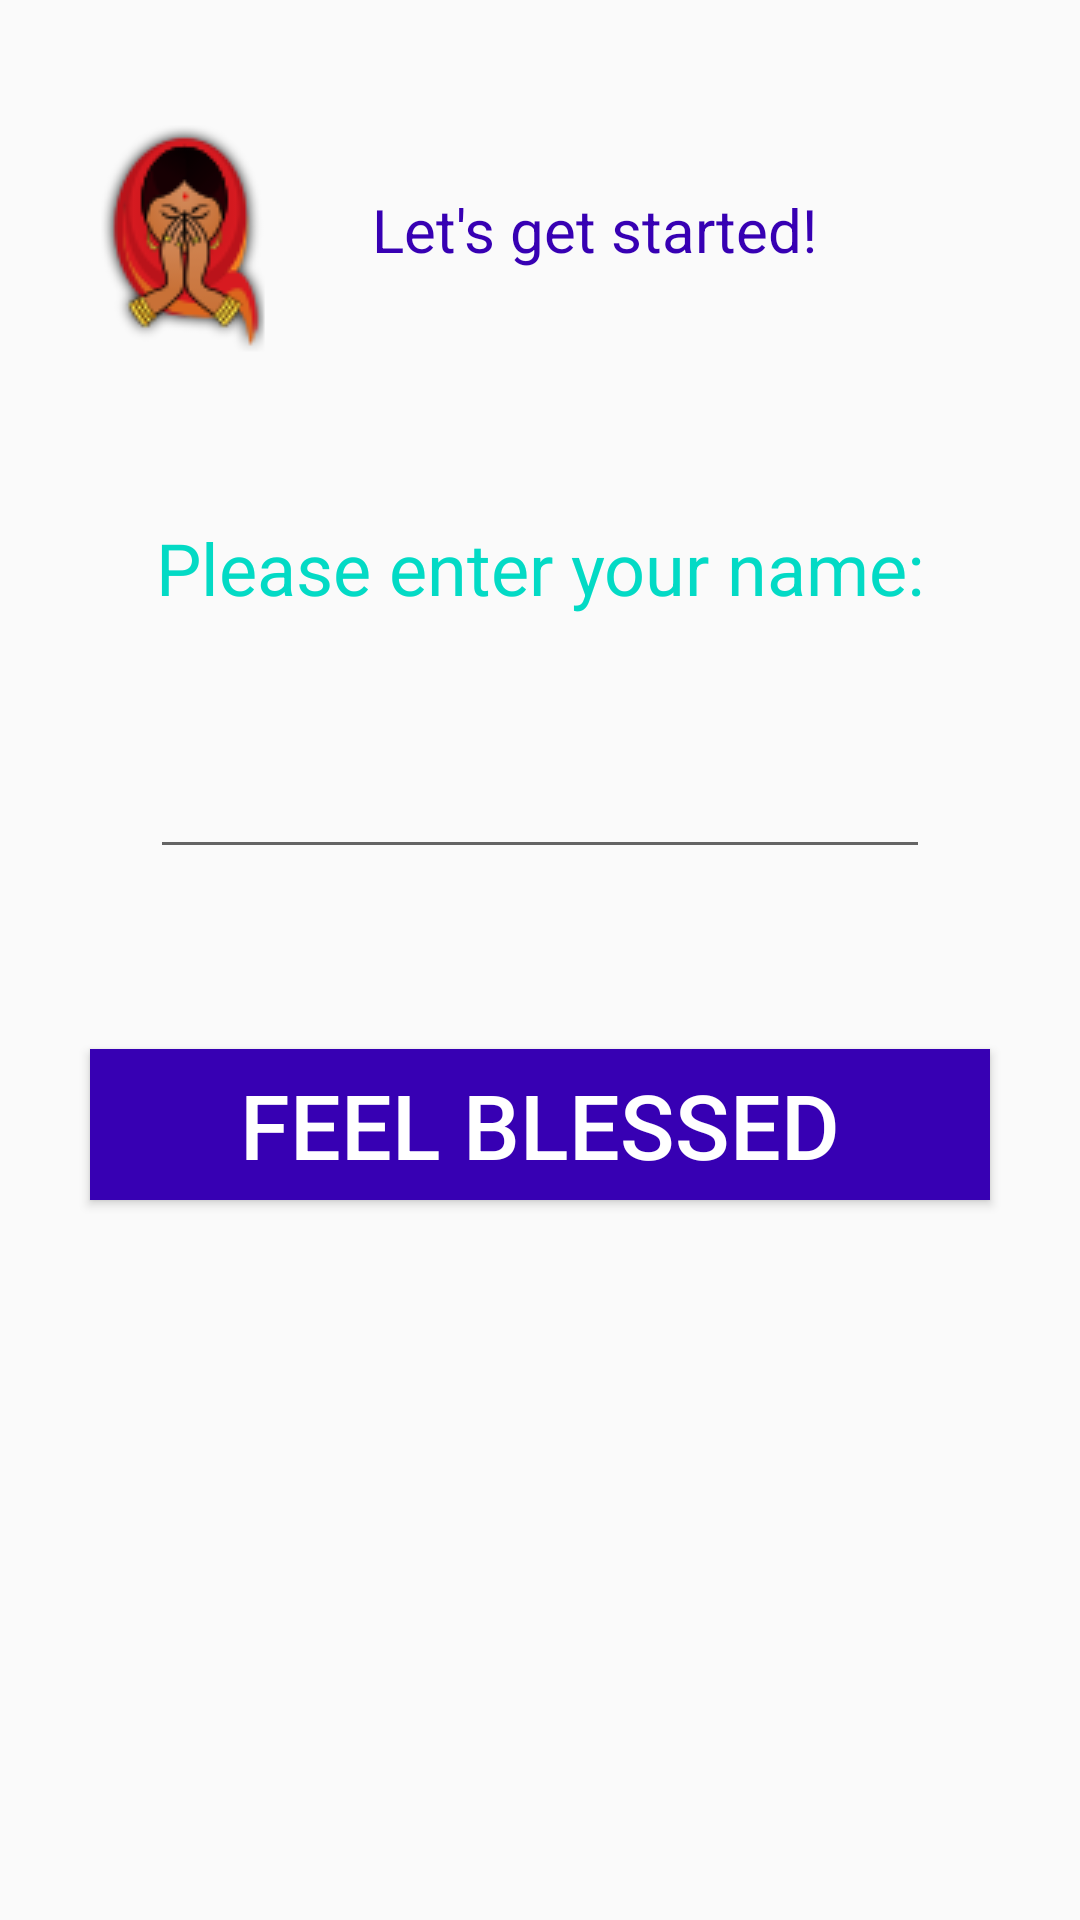

Icons on this 1080 x 1920 Android screen, each with the point to tap as (x=x, y=y):
namaste: (x=185, y=238)
